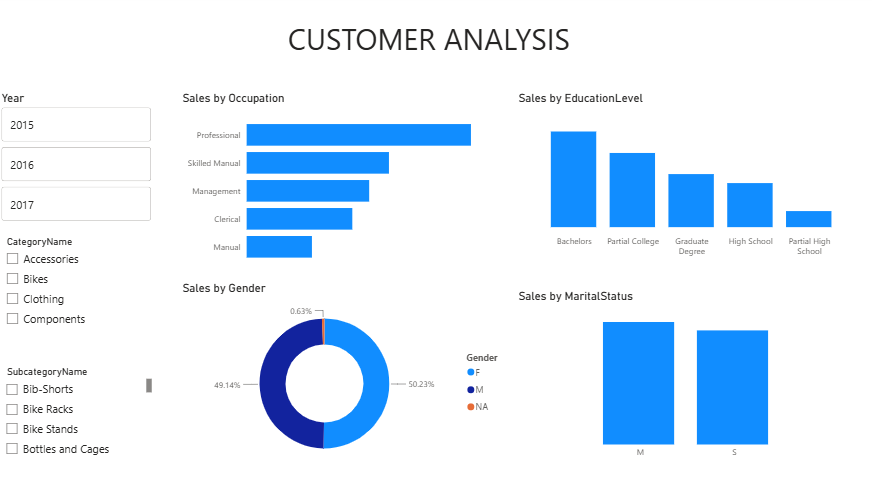

The dashboard page shown, as its layout file describes it:
{"tool":"powerbi","page":{"name":"Customer Analysis","canvas":[1280,720],"ordinal":2},"visuals":[{"type":"barChart","title":"Sales by Occupation","fields":{"Y":["AdventureWorks_Customers.Total Revenue"],"Category":["AdventureWorks_Customers.Occupation"]},"box":[264.9,140.5,491.7,266.3],"z":0},{"type":"donutChart","title":"Sales by Gender","fields":{"Category":["AdventureWorks_Customers.Gender"],"Y":["AdventureWorks_Customers.Total Revenue"]},"box":[264.9,418.5,491.7,281],"z":1000},{"type":"columnChart","title":"Sales by EducationLevel","fields":{"Y":["AdventureWorks_Customers.Total Revenue"],"Category":["AdventureWorks_Customers.EducationLevel"]},"box":[756.6,140.5,504.9,250.2],"z":2000},{"type":"clusteredColumnChart","title":"Sales by MaritalStatus","fields":{"Y":["AdventureWorks_Customers.Total Revenue"],"Category":["AdventureWorks_Customers.MaritalStatus"]},"box":[756.6,430.2,504.9,257.6],"z":3000},{"type":"advancedSlicerVisual","fields":{"Values":["Dim_Date.Year"]},"box":[0,140.5,229.8,197.6],"z":3001},{"type":"slicer","fields":{"Values":["AdventureWorks_Products.CategoryName"]},"box":[0,348.3,229.8,163.9],"z":3002},{"type":"slicer","fields":{"Values":["AdventureWorks_Products.SubcategoryName"]},"box":[0,538.5,229.8,149.3],"z":3003},{"type":"textbox","box":[0,29.3,1261.5,86.3],"z":3004}]}

Visuals, with their boxes in screenshot pixels (x1, y1, x2, y2), scaled from the page's 1280x720 canvas onto the 872x485 screenshot:
"Sales by Occupation" barChart: box=[180, 95, 515, 274]
"Sales by Gender" donutChart: box=[180, 282, 515, 471]
"Sales by EducationLevel" columnChart: box=[515, 95, 859, 263]
"Sales by MaritalStatus" clusteredColumnChart: box=[515, 290, 859, 463]
advancedSlicerVisual - Dim_Date.Year: box=[0, 95, 157, 228]
slicer - AdventureWorks_Products.CategoryName: box=[0, 235, 157, 345]
slicer - AdventureWorks_Products.SubcategoryName: box=[0, 363, 157, 463]
textbox: box=[0, 20, 859, 78]
